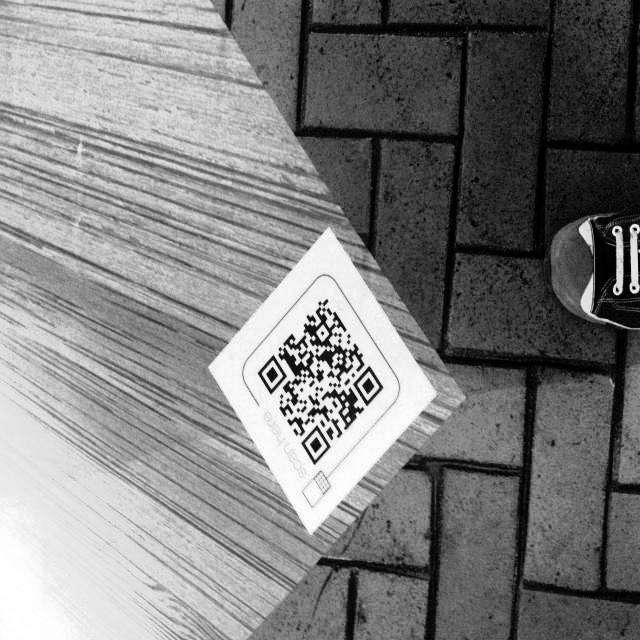qr_code: (257, 298, 384, 465)
